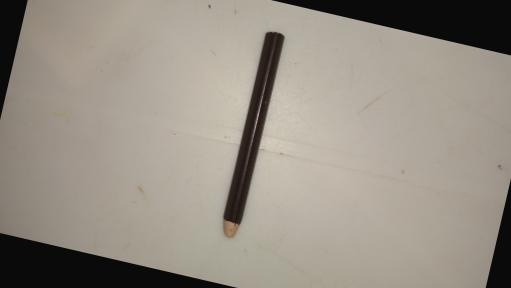Pencil: (216, 27, 284, 240)
